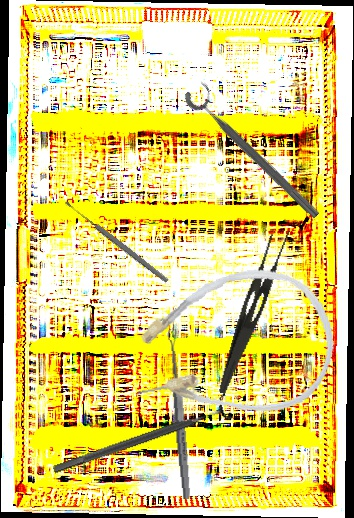Cannula: (119, 258, 343, 433)
Dressing Forceps: (217, 224, 293, 400)
Fixation Ring: (181, 77, 330, 224), (48, 391, 235, 484)
Surgical Spoon: (63, 199, 170, 284), (166, 328, 193, 500)
